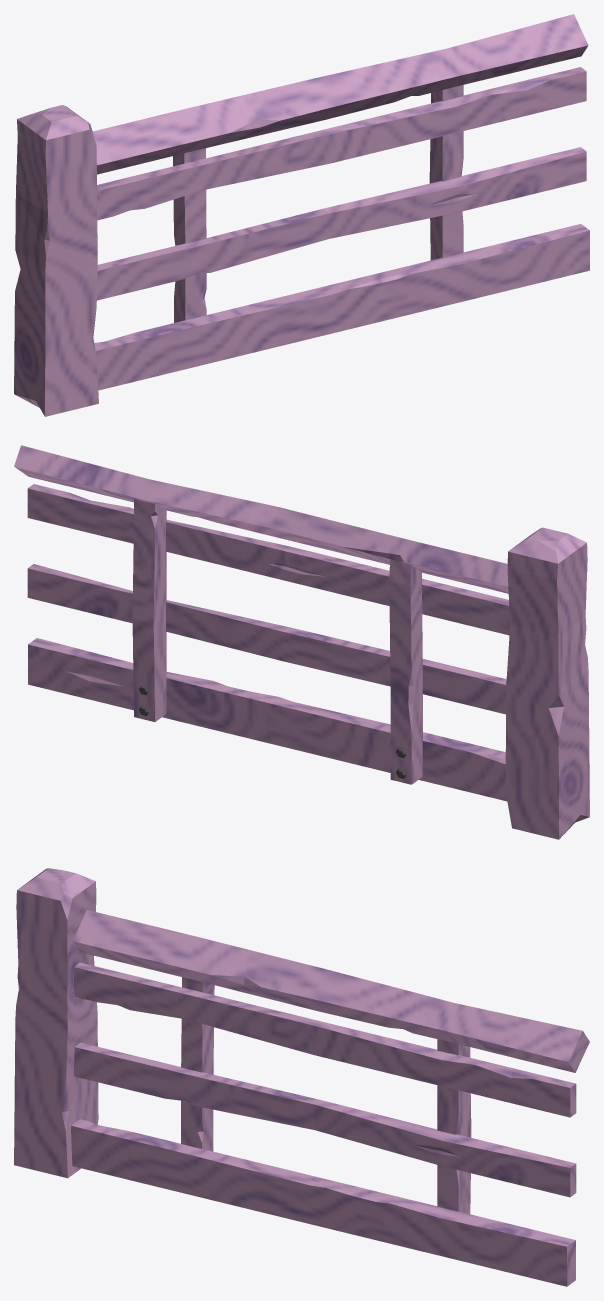
Rendered from Railing_01_1Pillar.fbx.
3 views of the same model, one above another, from view 1: azimuth 30°, elevation 25°; view 2: azimuth 150°, elevation 25°; view 3: azimuth 330°, elevation 25° (orthographic).
Parts seen in each view (by area): view 1: SM_Bld_Dock_Railing_01_Alt_01; view 2: SM_Bld_Dock_Railing_01_Alt_01; view 3: SM_Bld_Dock_Railing_01_Alt_01.
Part boxes in pixels (bbox=[...]): SM_Bld_Dock_Railing_01_Alt_01: bbox=[14, 14, 589, 416]; SM_Bld_Dock_Railing_01_Alt_01: bbox=[14, 445, 589, 839]; SM_Bld_Dock_Railing_01_Alt_01: bbox=[14, 868, 589, 1286].
Size of the model in its own units: 267 by 133 by 26.16.
